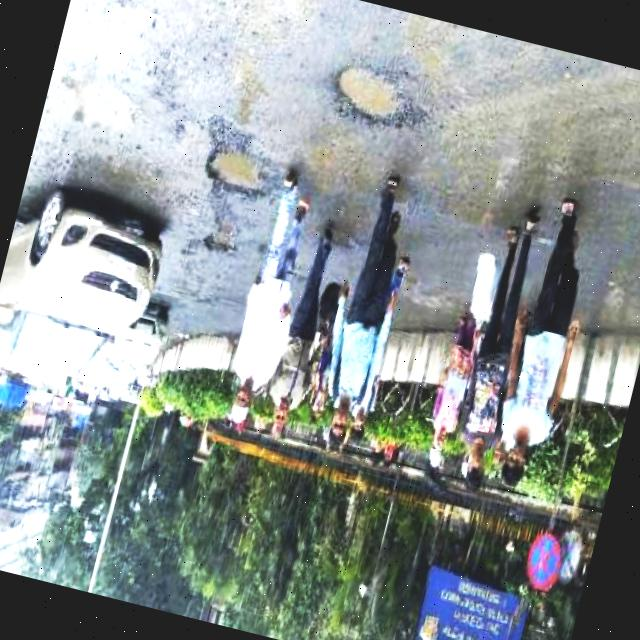pothole: (323, 54, 428, 140), (198, 134, 289, 207), (202, 216, 238, 258)
